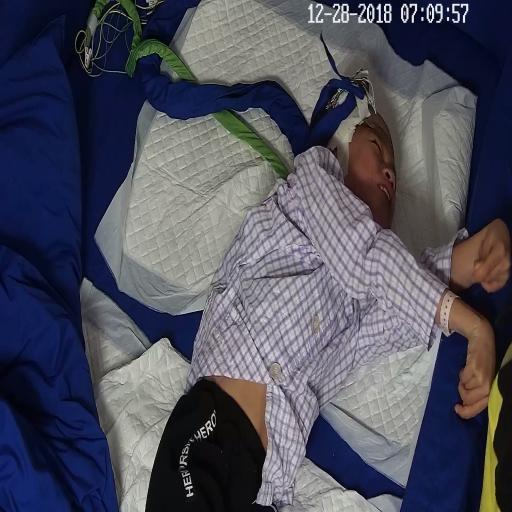Seizure: (337, 89, 397, 222)
